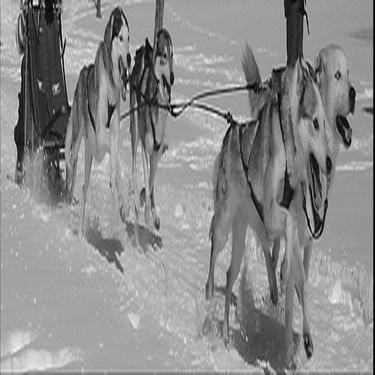dog: (211, 50, 337, 372), (238, 33, 360, 309), (68, 1, 137, 239), (130, 21, 179, 233)
